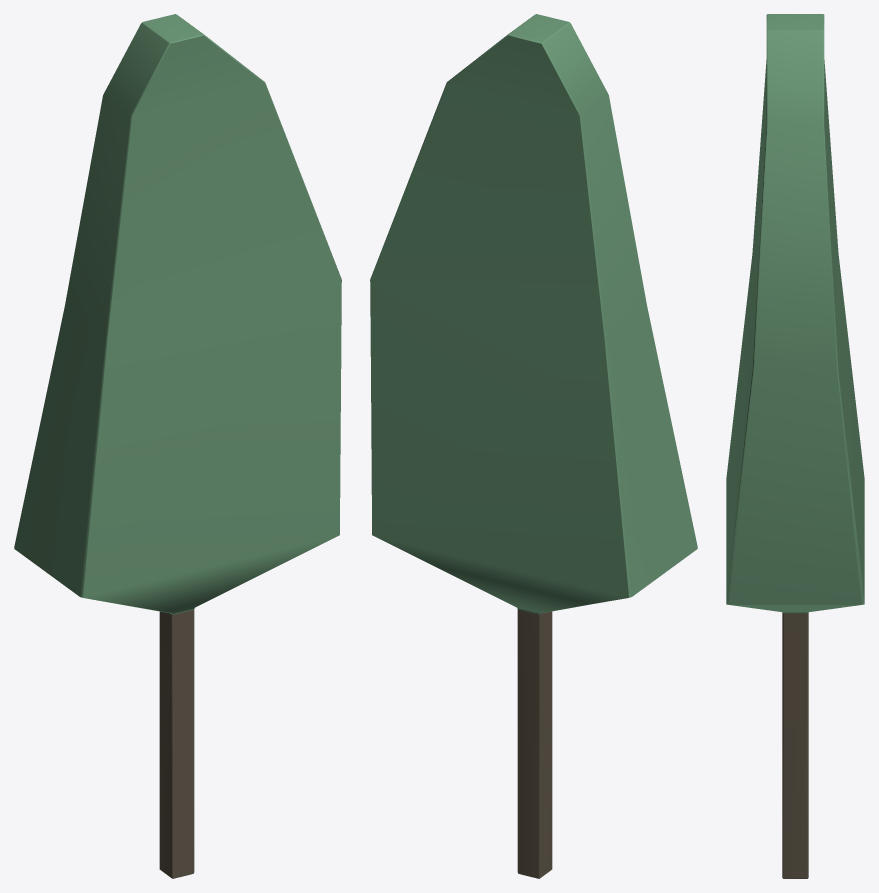
The model's file is Tree 2.fbx.
3 views of the same model, side by side, from view 1: azimuth 30°, elevation 25°; view 2: azimuth 150°, elevation 25°; view 3: azimuth 270°, elevation 25° (orthographic).
Visible parts, largest first — view 1: pCube10; view 2: pCube10; view 3: pCube10.
Boxes of the visible parts, x1,y1,x2,y2 form: pCube10: [14, 14, 341, 878]; pCube10: [370, 14, 697, 878]; pCube10: [726, 14, 864, 878].
Bounding box in the file's own units: 1.18 × 3.47 × 0.5112.
